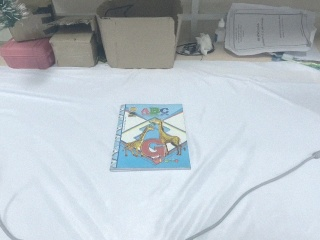book: (106, 101, 191, 173)
box: (95, 1, 182, 69), (49, 18, 103, 68)
